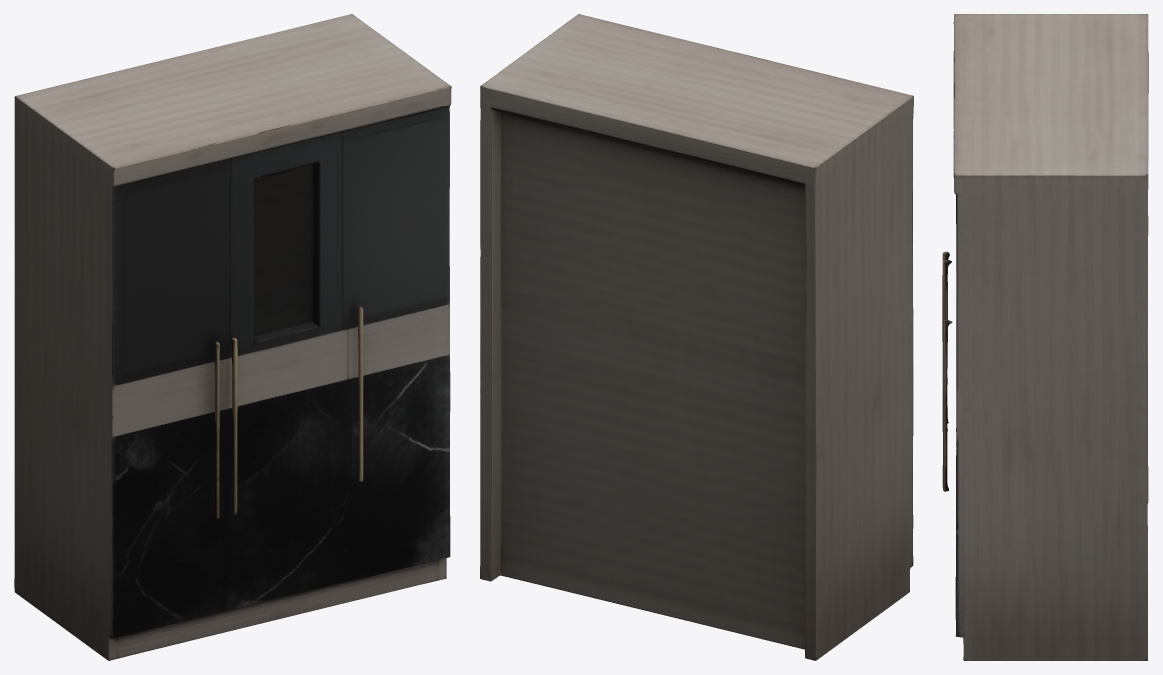
Rendered from mw761d_robe_new_pear_old_gre.glb.
3 renders of one model, left to right at view 1: azimuth 30°, elevation 25°; view 2: azimuth 150°, elevation 25°; view 3: azimuth 270°, elevation 25°, orthographic. The views are drawn at different scales.
Parts seen in each view (by area): view 1: world; view 2: world; view 3: world.
Part boxes in pixels (x1=…): world: x1=14, y1=14, x2=451, y2=660; world: x1=480, y1=14, x2=913, y2=660; world: x1=942, y1=14, x2=1148, y2=660.
Size of the model in its own units: 0.7145 by 1 by 0.3845.
1 material, 1 textured.
